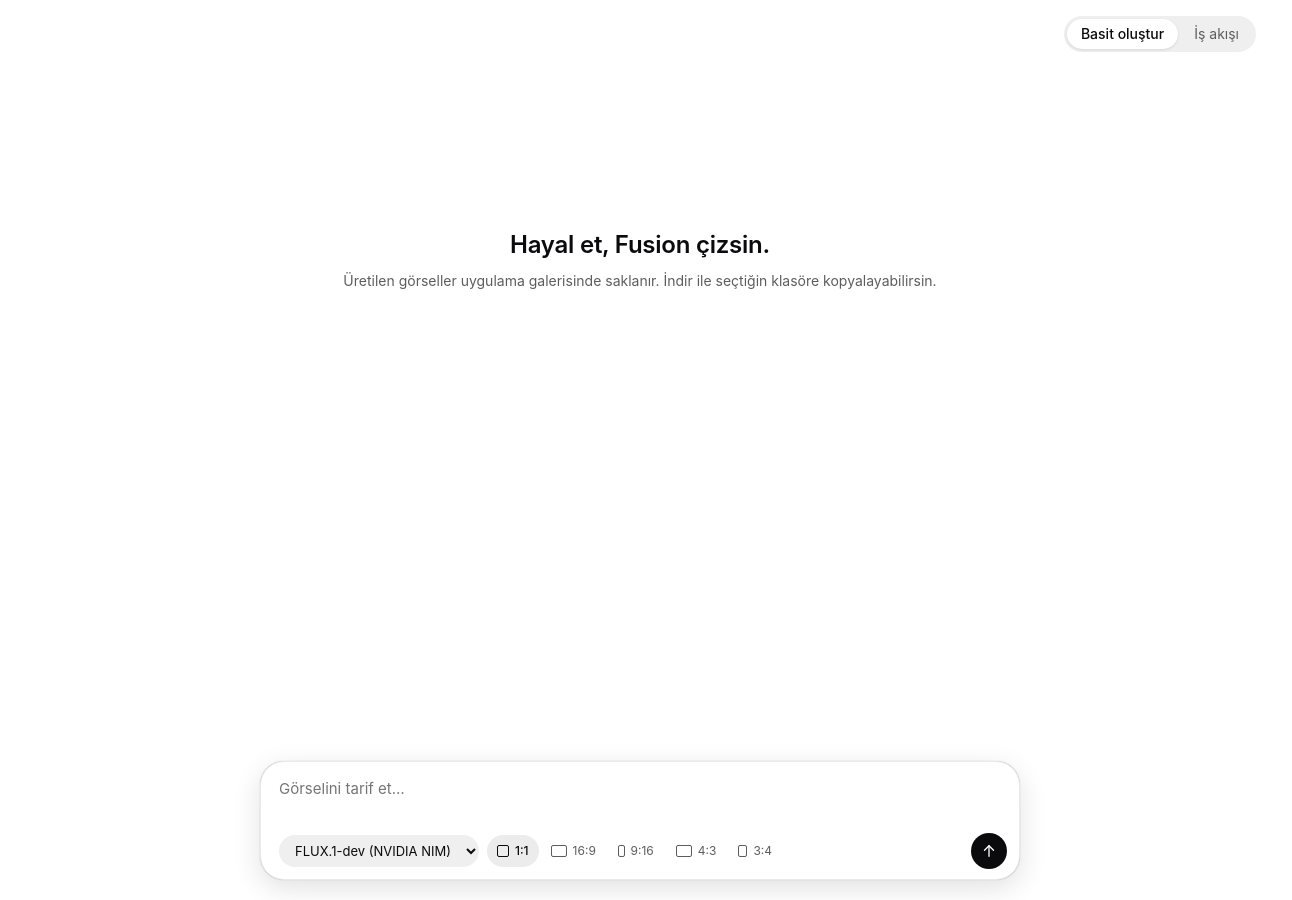
Scenario: ImageCreate — düğümlü akış › basit modda istemi alır ve sonucu iş akışında sürdürür
In the text box named "Nasıl bir görsel istiyorsun?": {"x": 643, "y": 800} left=279, top=774, right=1007, bottom=827, type "kask"
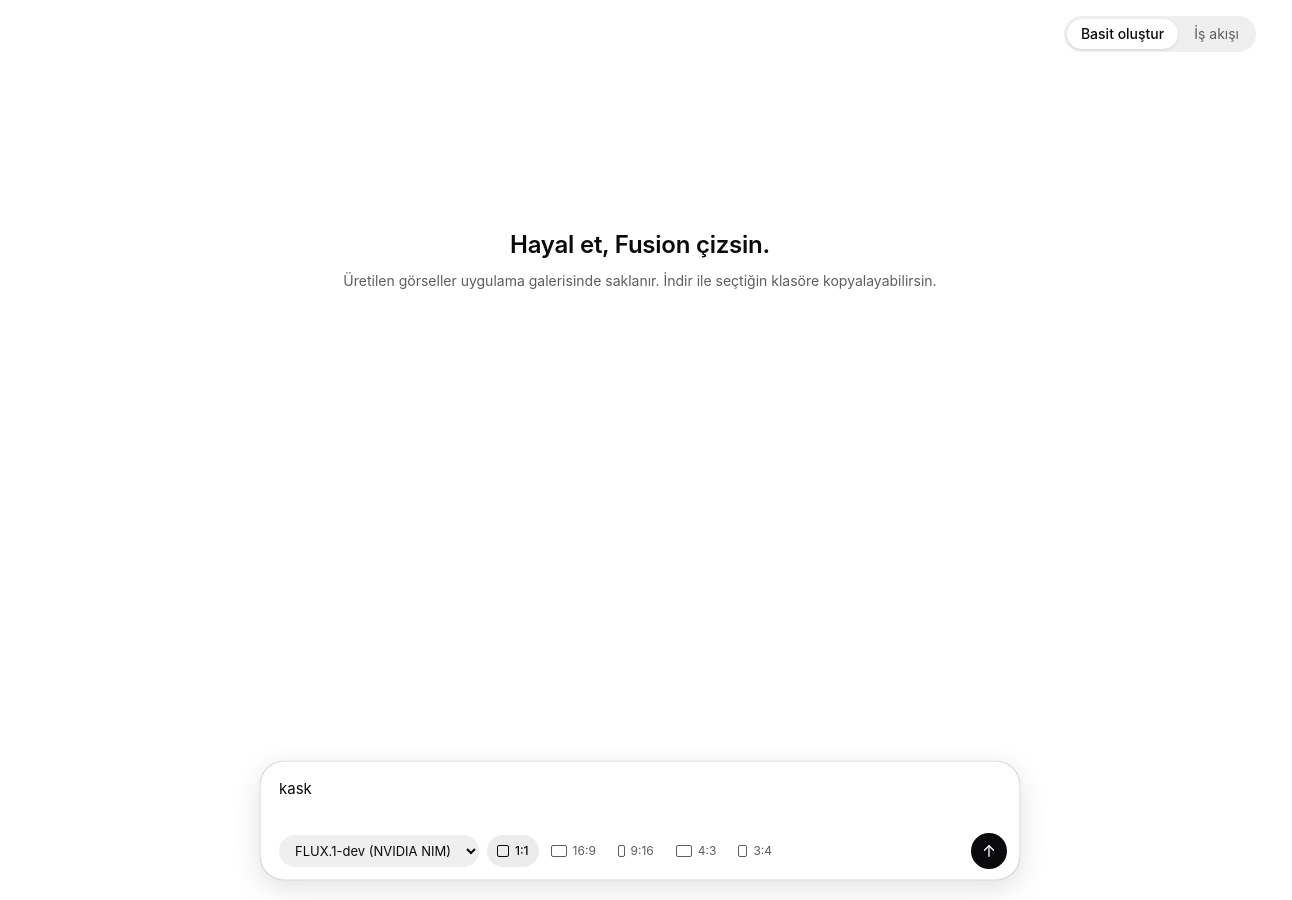
Click the button named "Görsel oluştur": {"x": 989, "y": 851} left=971, top=833, right=1007, bottom=869
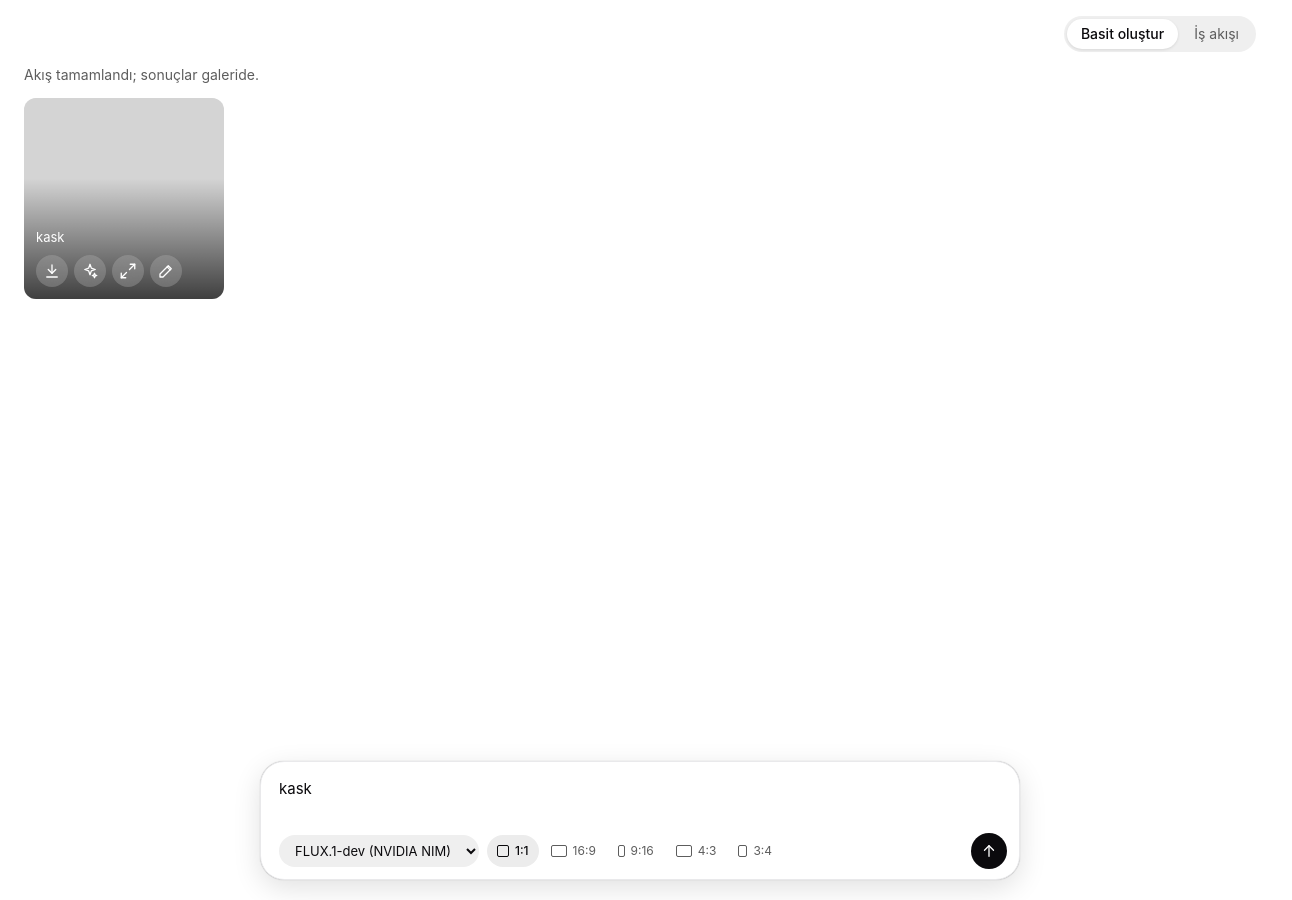
Click the button named "Varyasyonla devam et": {"x": 90, "y": 271} left=74, top=255, right=106, bottom=287
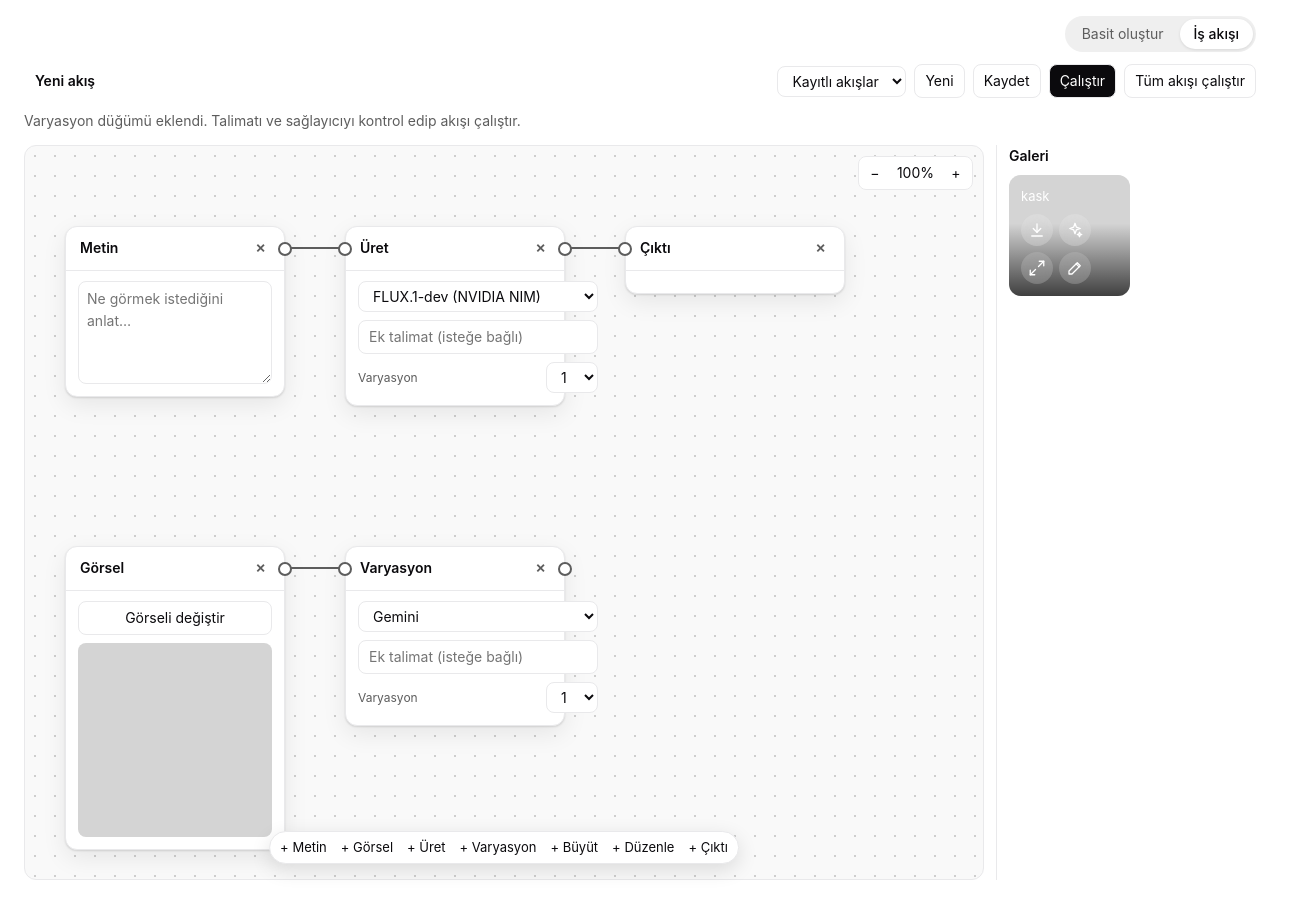
Result: the element named "Görsel iş akışı tuvali" is shown
Result: the text "Varyasyon düğümü eklendi. Talimatı ve sağlayıcıyı kontrol edip akışı çalıştır." is shown at left=24, top=112, right=521, bottom=129
